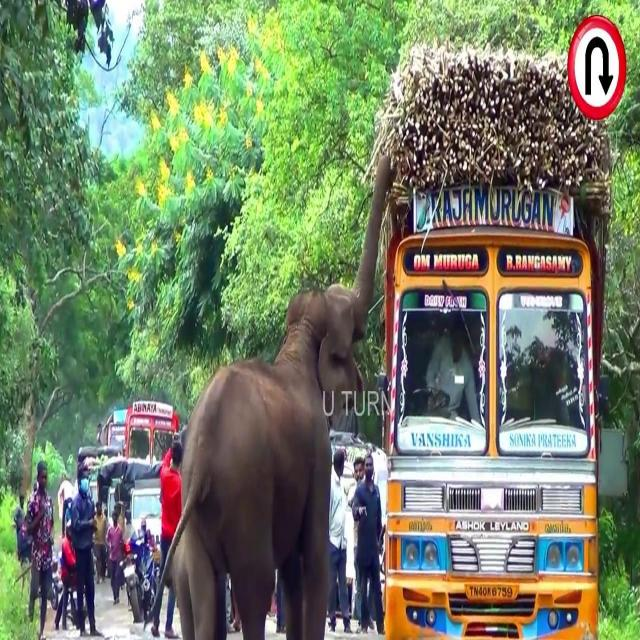Elephant: (163, 153, 393, 639)
